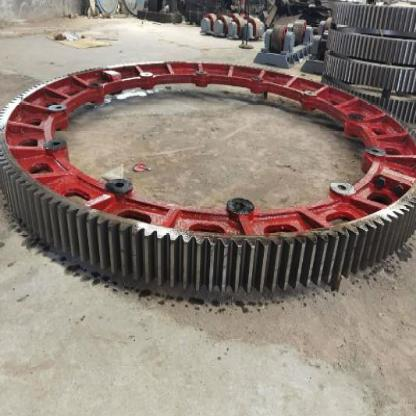FOD: (0, 55, 415, 304)
